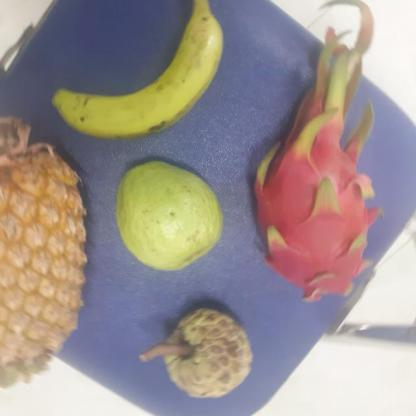annona: (160, 306, 258, 396)
banana: (57, 5, 228, 139)
guava: (116, 161, 228, 272)
pitaya: (253, 124, 386, 298)
